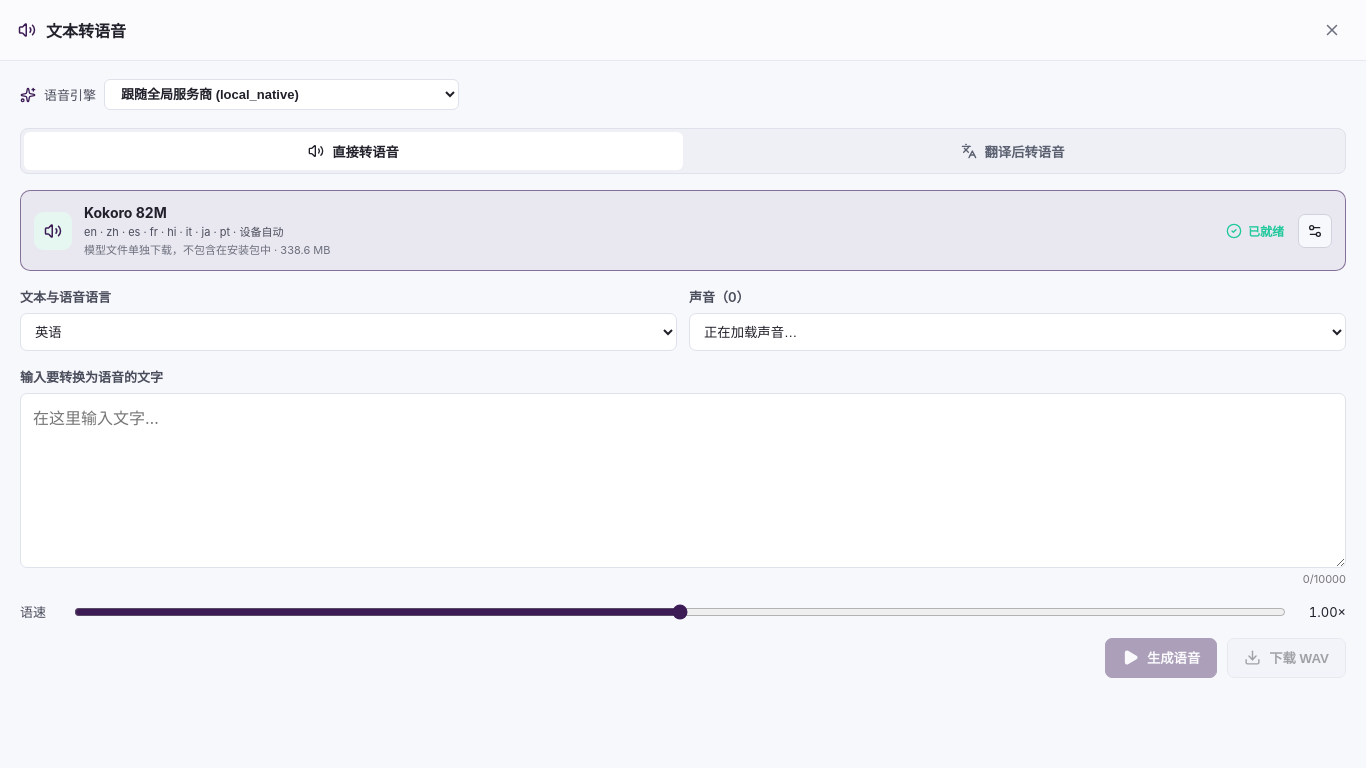
Test: TextToSpeechDialog modes › switches Chinese text to a Chinese default voice
Check: the dropdown labelled "声音（0）" is shown, box [689,313,1346,351]
Select "中文" in the dropdown labelled "文本与语音语言" at (348, 332), box [20,313,677,351]
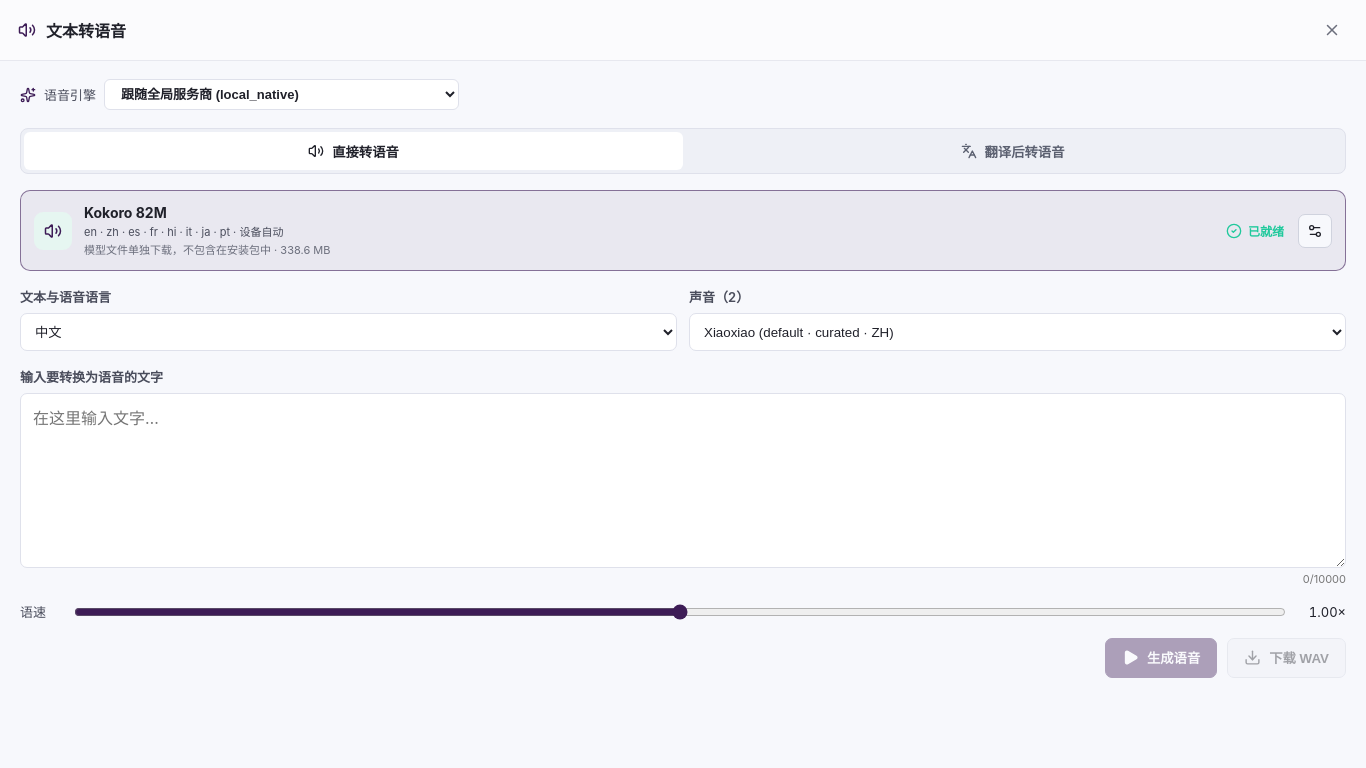
Check: the dropdown labelled "声音（2）" shows "Xiaoxiao (default · curated · ZH)", box [689,313,1346,351]
